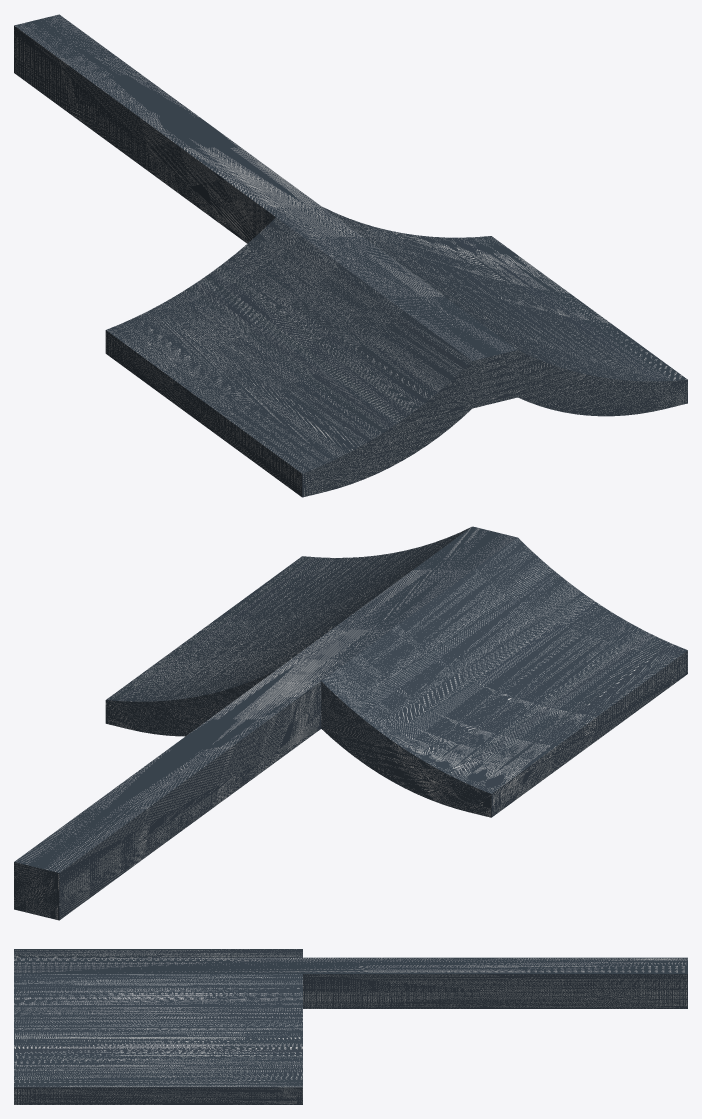
Rendered from original-11.obj.
3 renders of one model, top to bottom at view 1: azimuth 30°, elevation 25°; view 2: azimuth 150°, elevation 25°; view 3: azimuth 270°, elevation 25°, orthographic. The views are drawn at different scales.
Parts seen in each view (by area): view 1: instance_1/Component_23/ID64#ID64; view 2: instance_1/Component_23/ID64#ID64; view 3: instance_1/Component_23/ID64#ID64.
Boxes of the visible parts, box(x1,y1,x2,y2) form: instance_1/Component_23/ID64#ID64: box(14, 14, 687, 497); instance_1/Component_23/ID64#ID64: box(14, 526, 687, 920); instance_1/Component_23/ID64#ID64: box(14, 949, 687, 1104).
Bounding box in the file's own units: 0.1711 × 0.0403 × 0.3523.
